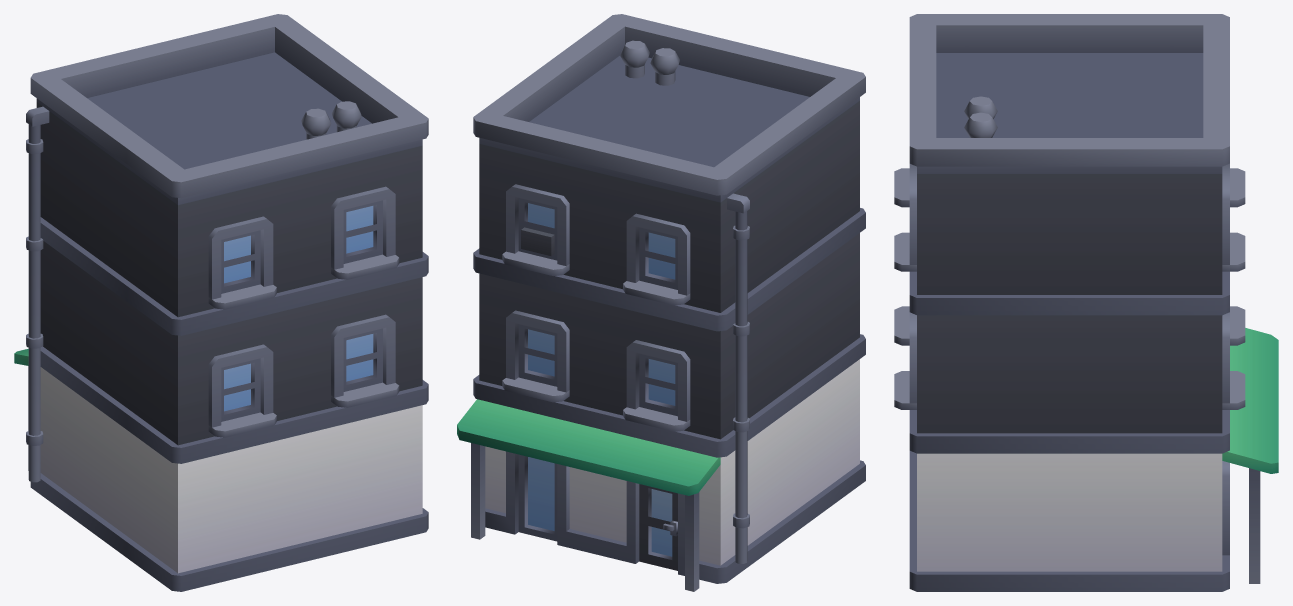
Rendered from building-h.glb.
3 views of the same model, side by side, from view 1: azimuth 30°, elevation 25°; view 2: azimuth 150°, elevation 25°; view 3: azimuth 270°, elevation 25° (orthographic). The views are drawn at different scales.
Visible parts, largest first — view 1: building-h; view 2: building-h; view 3: building-h.
Part boxes in pixels (x1,y1,x2,y2): building-h: (14, 14, 428, 591); building-h: (457, 14, 865, 591); building-h: (894, 14, 1278, 591).
Bounding box in the file's own units: 0.8835 × 1.29 × 1.01.
1 material, 1 textured.
